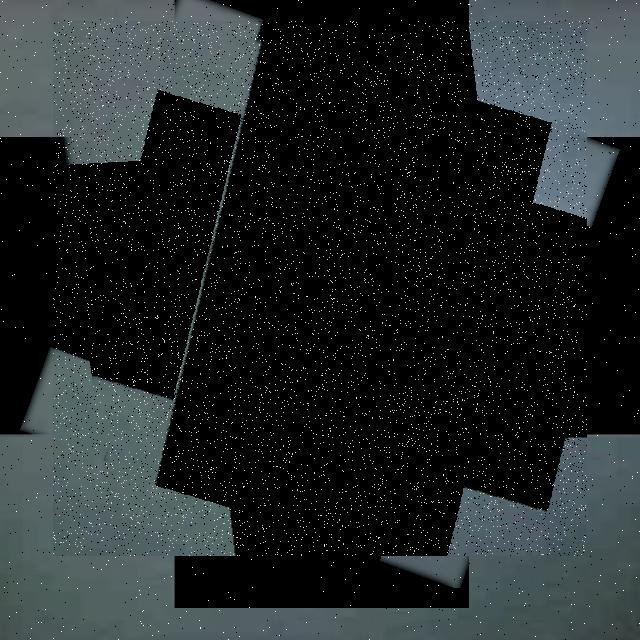lima puluh ribu rupiah: (53, 21, 587, 556)
